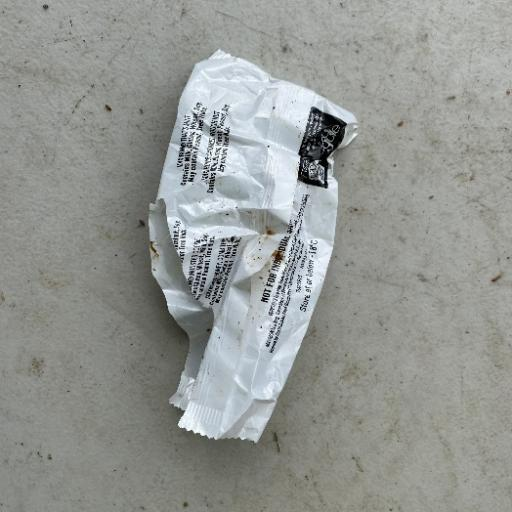Plastic: (144, 48, 360, 444)
